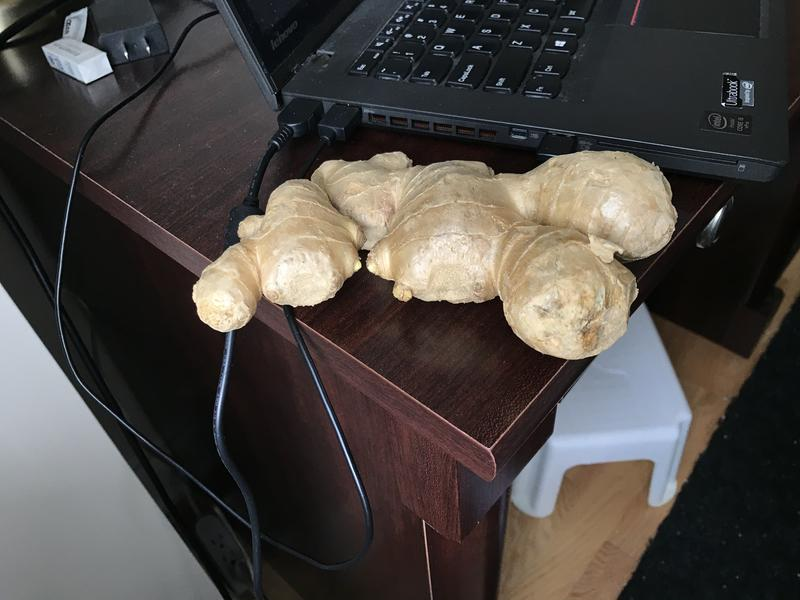ginger: (176, 142, 682, 370)
